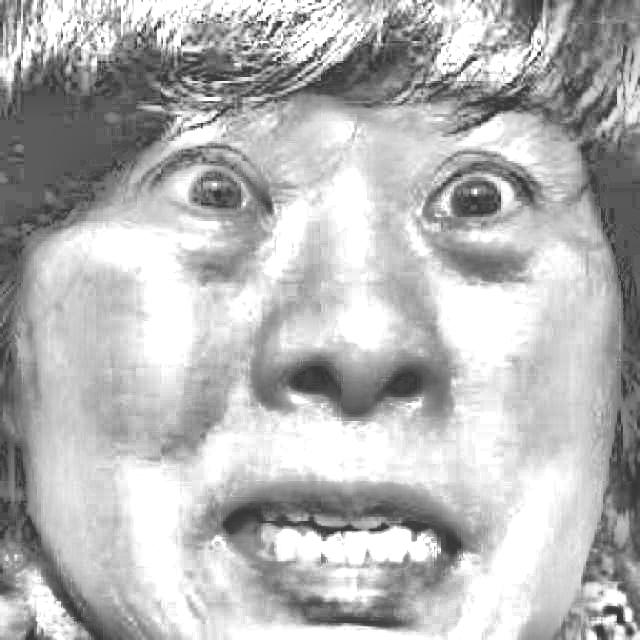angry: (87, 96, 585, 636)
